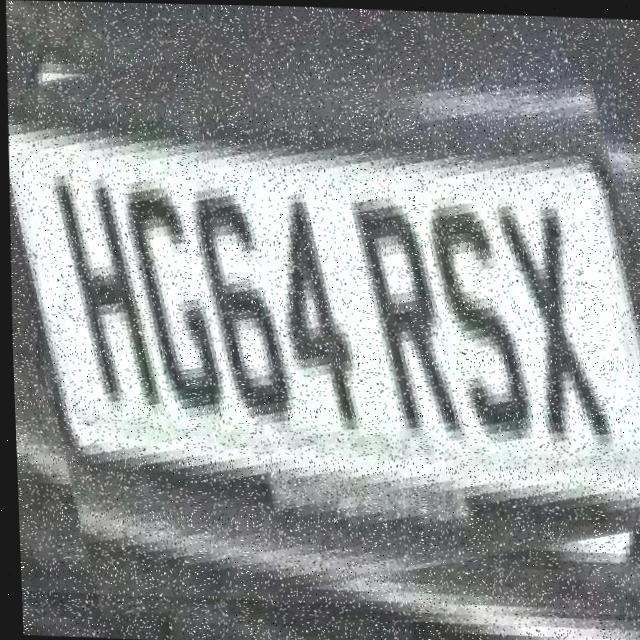LicensePlate: (0, 0, 640, 612)
